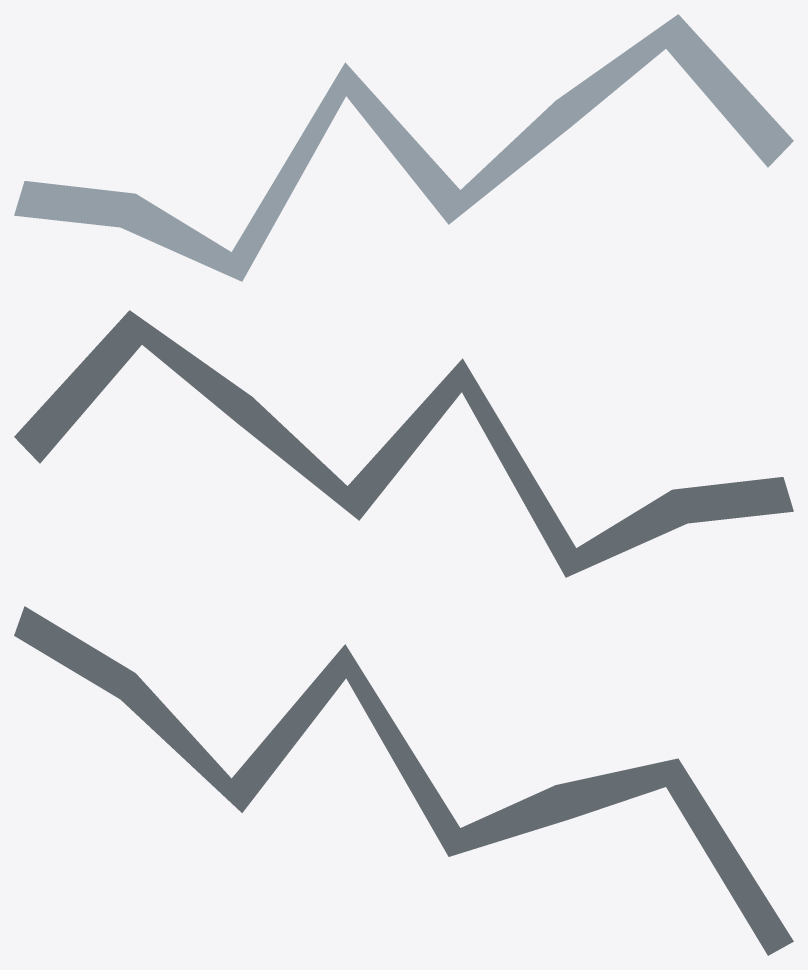
The model's file is ElementalGround_Electro_GroundArc76.fbx.
The picture shows the model from 3 angles, top to bottom: view 1: azimuth 30°, elevation 25°; view 2: azimuth 150°, elevation 25°; view 3: azimuth 330°, elevation 25°; orthographic projection.
Visible parts, largest first — view 1: PART_GroundArc76; view 2: PART_GroundArc76; view 3: PART_GroundArc76.
Boxes of the visible parts, <box> form: PART_GroundArc76: <box>14,14,793,281</box>; PART_GroundArc76: <box>14,310,793,577</box>; PART_GroundArc76: <box>14,606,793,955</box>.
Bounding box in the file's own units: 71.68 × 18.34 × 2.99e-06.
